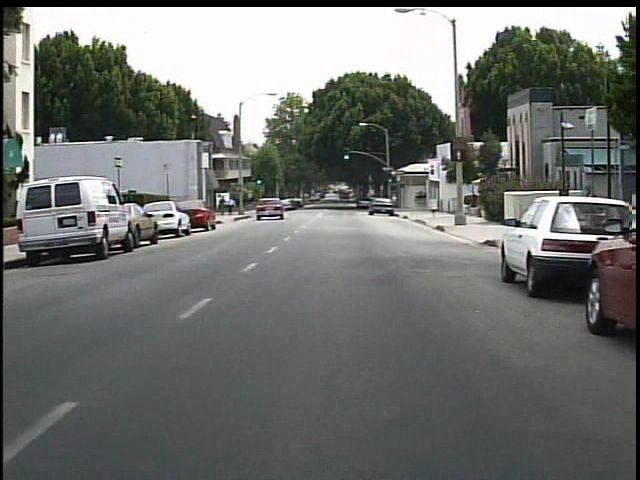person: (218, 195, 230, 217), (227, 196, 238, 218)
